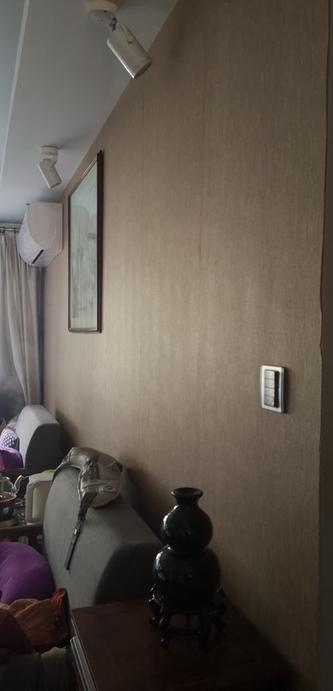switch: (256, 365, 289, 414)
